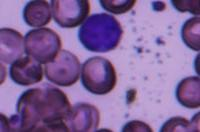L: (78, 12, 123, 54)
